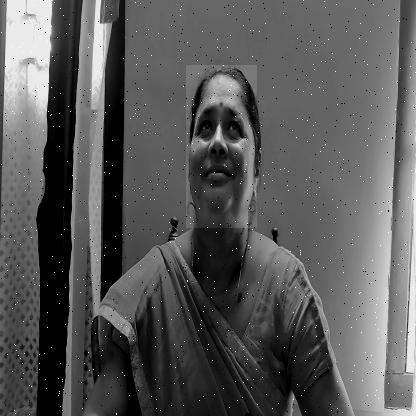Normal: (186, 65, 257, 228)
